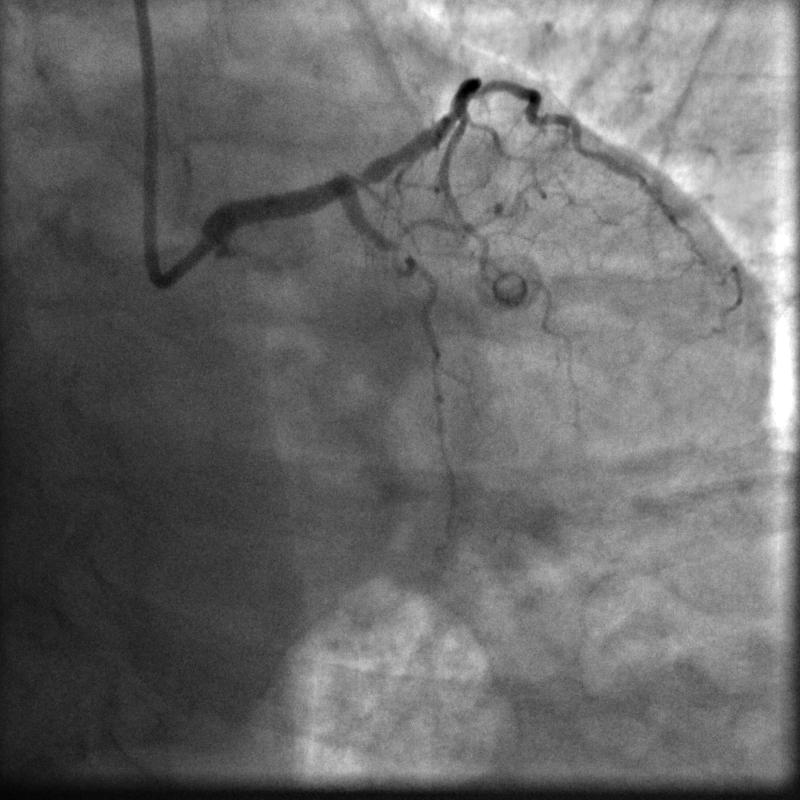Stenosis: (339, 164, 379, 189)
